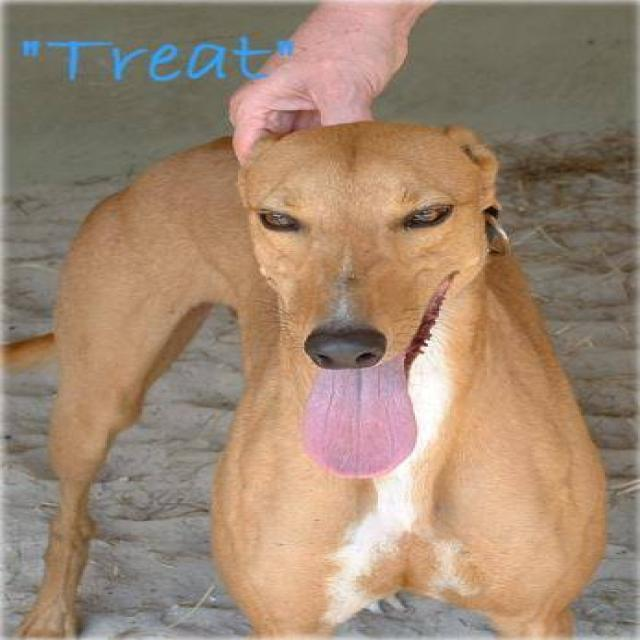dogs: (30, 96, 604, 637)
